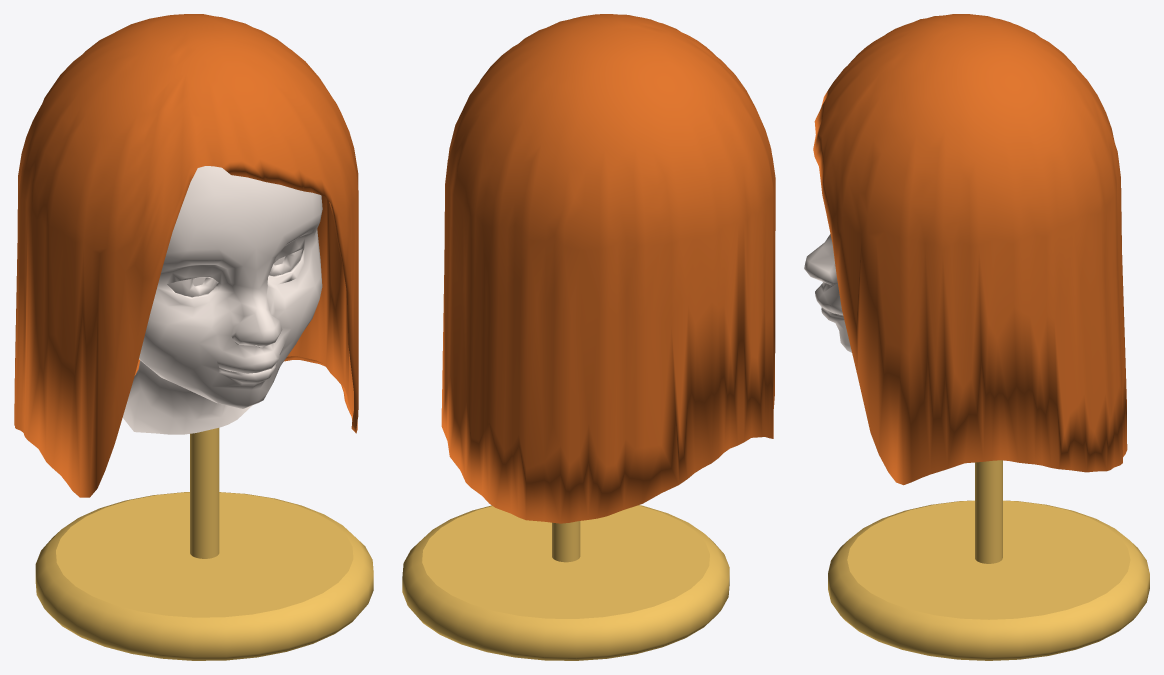
File: rain.hair.copper-lob.glb
3 views of the same model, side by side, from view 1: azimuth 30°, elevation 25°; view 2: azimuth 150°, elevation 25°; view 3: azimuth 270°, elevation 25° (orthographic). The views are drawn at different scales.
Parts seen in each view (by area): view 1: Hairstyles.copper-lob.Crown, stand_base, GEO-rain-head, stand_stem, GEO-rain-eyes; view 2: Hairstyles.copper-lob.Crown, stand_base, stand_stem; view 3: Hairstyles.copper-lob.Crown, stand_base, stand_stem, GEO-rain-head.
Part boxes in pixels (bbox=[...]): Hairstyles.copper-lob.Crown: bbox=[14, 14, 358, 497]; stand_base: bbox=[35, 492, 373, 660]; GEO-rain-head: bbox=[122, 166, 322, 434]; stand_stem: bbox=[190, 428, 219, 558]; GEO-rain-eyes: bbox=[167, 249, 301, 297]; Hairstyles.copper-lob.Crown: bbox=[441, 14, 775, 523]; stand_base: bbox=[402, 505, 729, 660]; stand_stem: bbox=[552, 521, 580, 562]; Hairstyles.copper-lob.Crown: bbox=[813, 14, 1127, 485]; stand_base: bbox=[828, 500, 1149, 660]; stand_stem: bbox=[975, 460, 1002, 563]; GEO-rain-head: bbox=[804, 234, 851, 352].
Bounding box in the file's own units: 0.4372 × 0.75 × 0.421.
